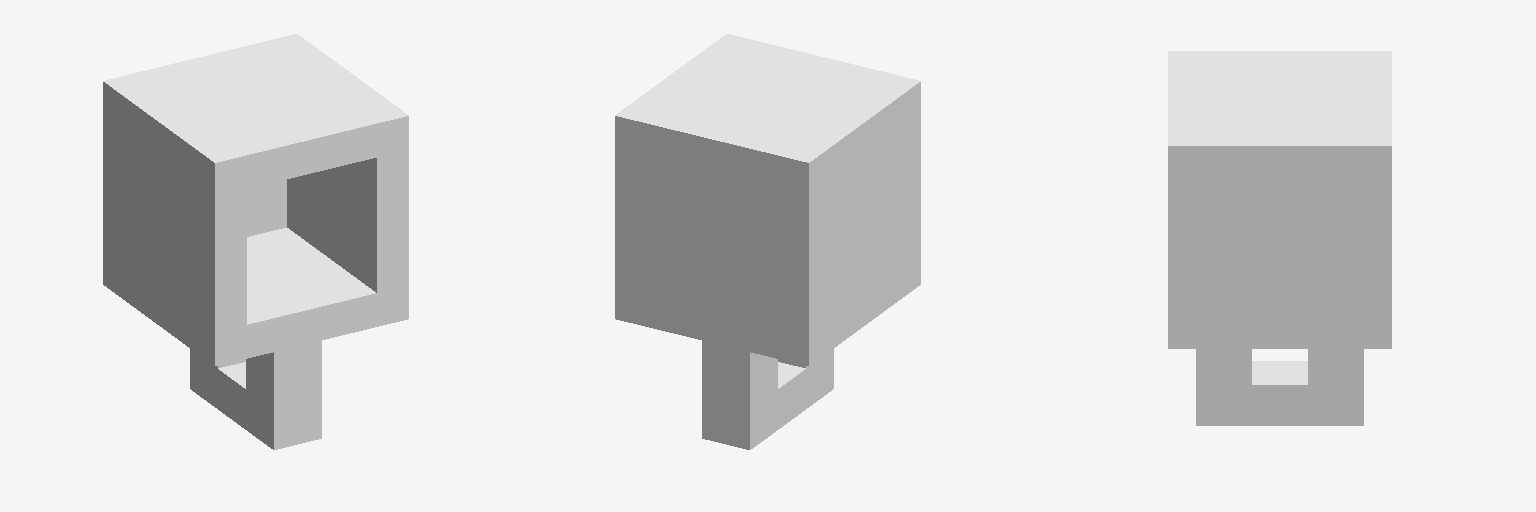
The model's file is mug.obj.
The picture shows the model from 3 angles: view 1: azimuth 30°, elevation 25°; view 2: azimuth 150°, elevation 25°; view 3: azimuth 270°, elevation 25°; orthographic projection.
Parts seen in each view (by area): view 1: Mug; view 2: Mug; view 3: Mug.
Boxes of the visible parts, <box> form: Mug: <box>103,34,408,449</box>; Mug: <box>615,34,920,449</box>; Mug: <box>1168,51,1391,425</box>.
Size of the model in its own units: 0.3338 by 0.5173 by 0.3338.